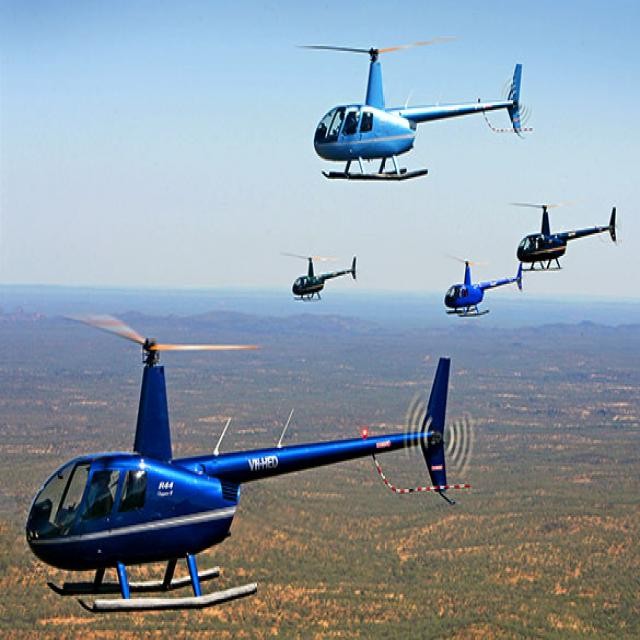helicopter: (23, 321, 478, 623), (300, 26, 534, 190), (510, 196, 626, 275), (432, 249, 527, 331), (282, 241, 365, 318)
